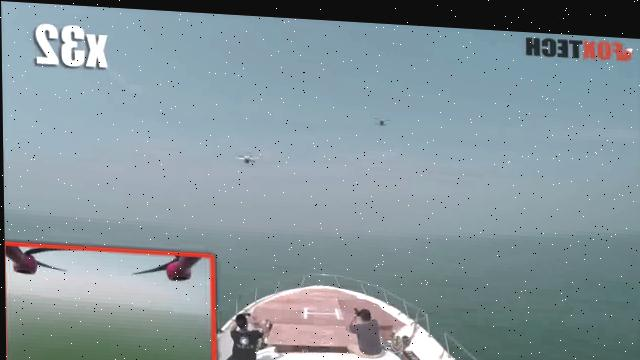drone: (368, 107, 394, 128), (231, 147, 261, 164)
